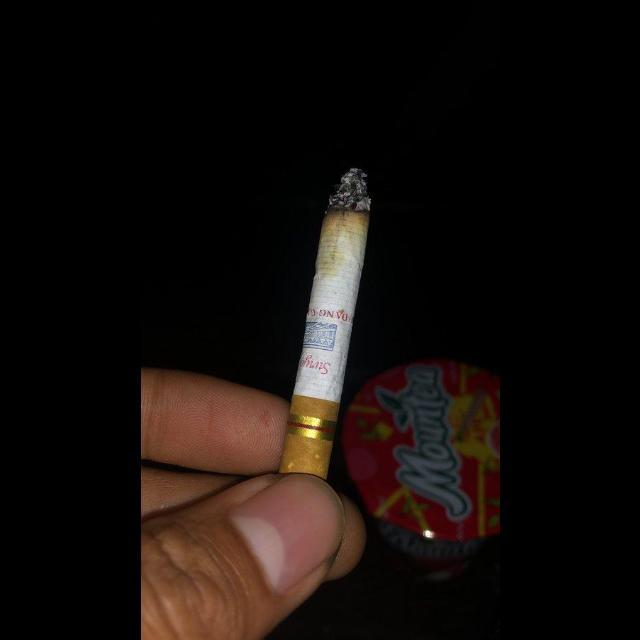rokok: (281, 158, 373, 478)
